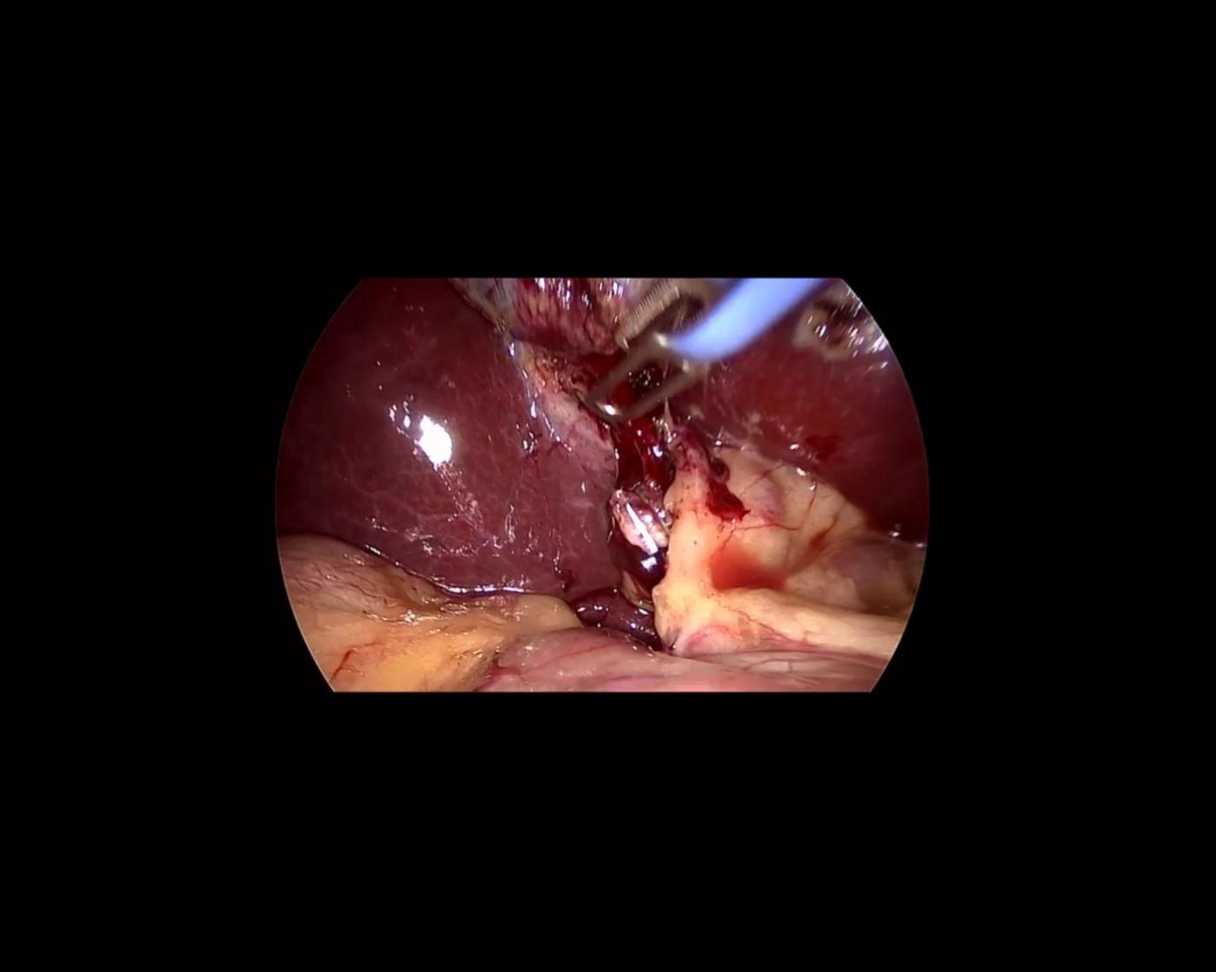Allis: (555, 201, 831, 440)
Gallbladder: (451, 279, 659, 355)
Liver: (259, 251, 679, 626), (686, 283, 994, 606)
